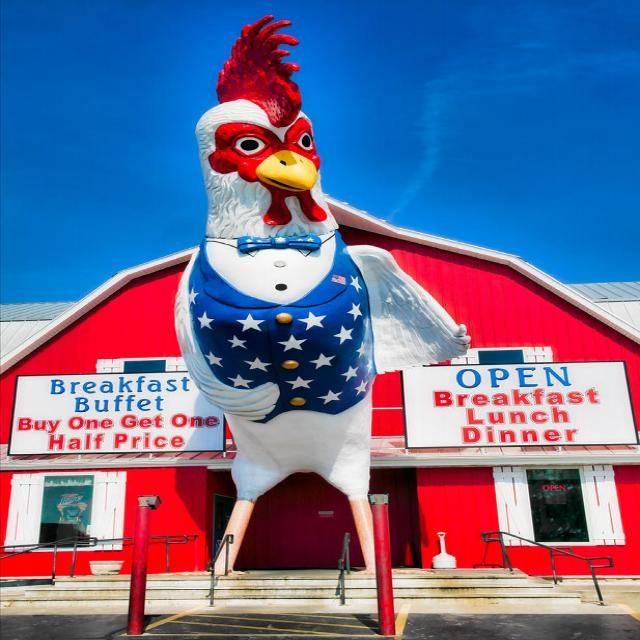Chicken: (174, 65, 491, 609)
